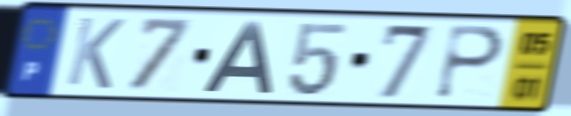5: (284, 19, 351, 98)
7: (125, 16, 194, 94), (378, 21, 433, 101)
A: (198, 18, 275, 95)
K: (63, 14, 128, 92)
P: (432, 22, 508, 103)
